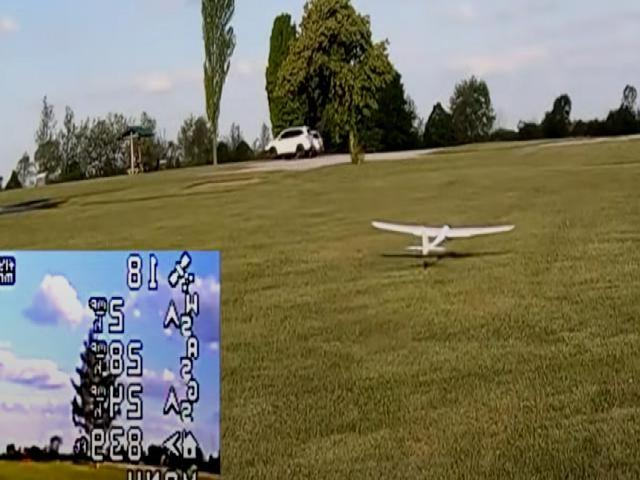iha: (374, 214, 514, 255)
